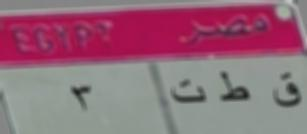3: (68, 79, 94, 117)
Taa: (216, 66, 254, 107)
qaaf: (270, 68, 304, 113)
taa: (167, 76, 210, 108)
